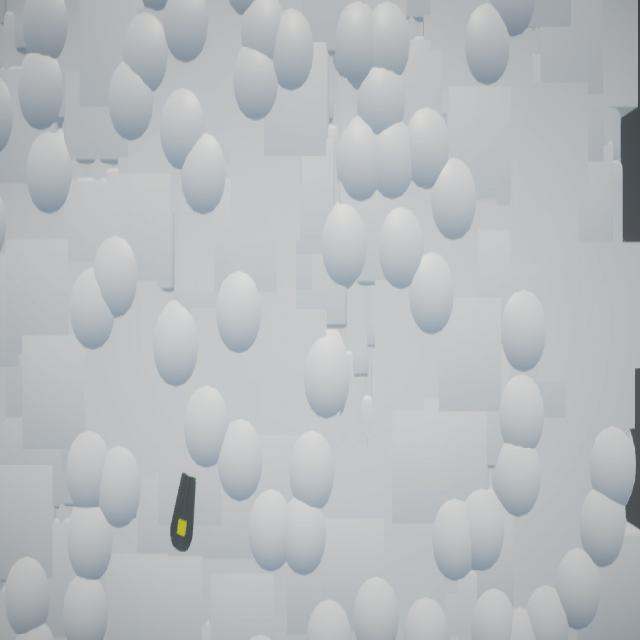handle_folk: (171, 473, 197, 553)
